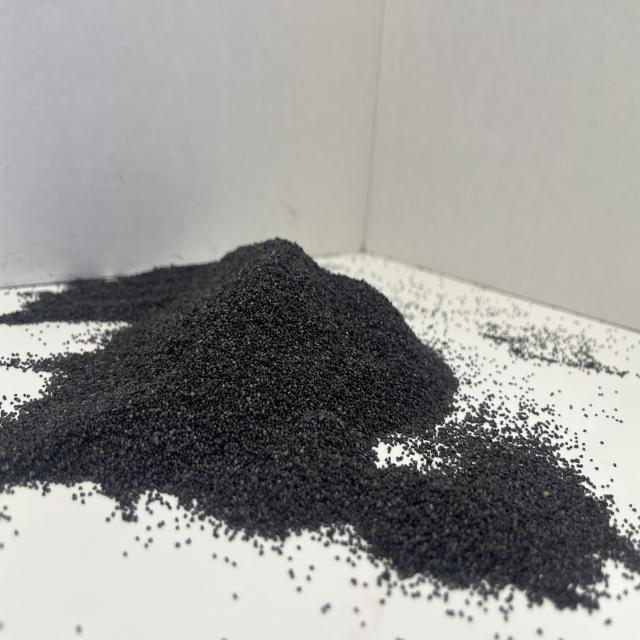Poppy Seeds: (21, 203, 592, 598)
